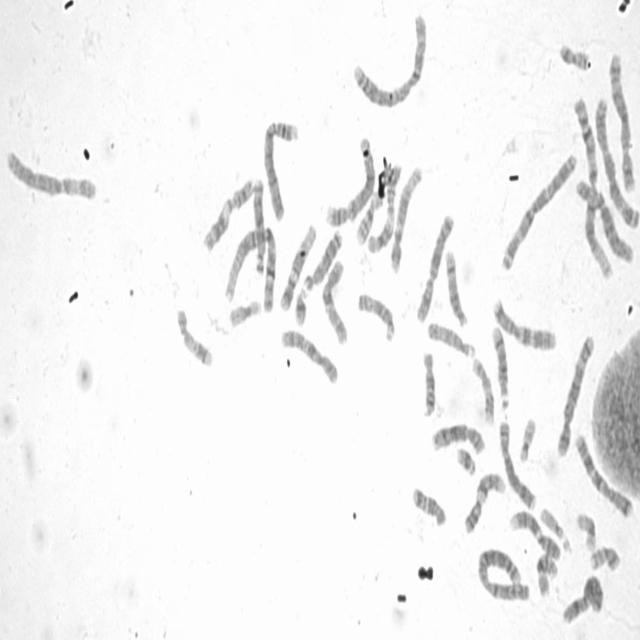A1: (570, 91, 614, 282), (222, 222, 278, 314)
A2: (350, 8, 428, 111), (475, 542, 531, 604)
A3: (498, 146, 580, 273), (594, 95, 640, 230)
B4: (324, 132, 376, 228), (260, 112, 300, 222)
B5: (554, 328, 596, 460), (606, 46, 637, 195)
C10: (278, 324, 341, 388), (319, 254, 349, 346)
C11: (200, 171, 256, 255), (364, 159, 402, 256)
C12: (388, 160, 424, 274), (277, 218, 318, 312)
C6: (574, 174, 635, 266), (4, 144, 98, 203)
C7: (572, 428, 635, 520), (490, 292, 559, 352)
C8: (497, 415, 538, 513), (429, 418, 487, 456)
C9: (508, 505, 562, 562), (462, 467, 506, 535)
D13: (301, 224, 344, 293), (251, 173, 266, 275)
D14: (444, 246, 469, 330), (489, 320, 511, 411)
D15: (356, 287, 398, 344), (425, 316, 477, 360)
E16: (354, 189, 382, 246), (534, 546, 559, 598)
E17: (174, 303, 215, 369), (470, 352, 496, 426)
E18: (410, 481, 448, 529), (420, 345, 437, 419)
F19: (226, 294, 262, 329), (574, 508, 598, 554)
F20: (557, 38, 591, 72), (588, 540, 622, 573)
G21: (454, 442, 477, 478), (292, 282, 309, 326)
G22: (538, 502, 573, 554), (516, 411, 537, 464)
X: (413, 207, 456, 325), (560, 568, 605, 627)
